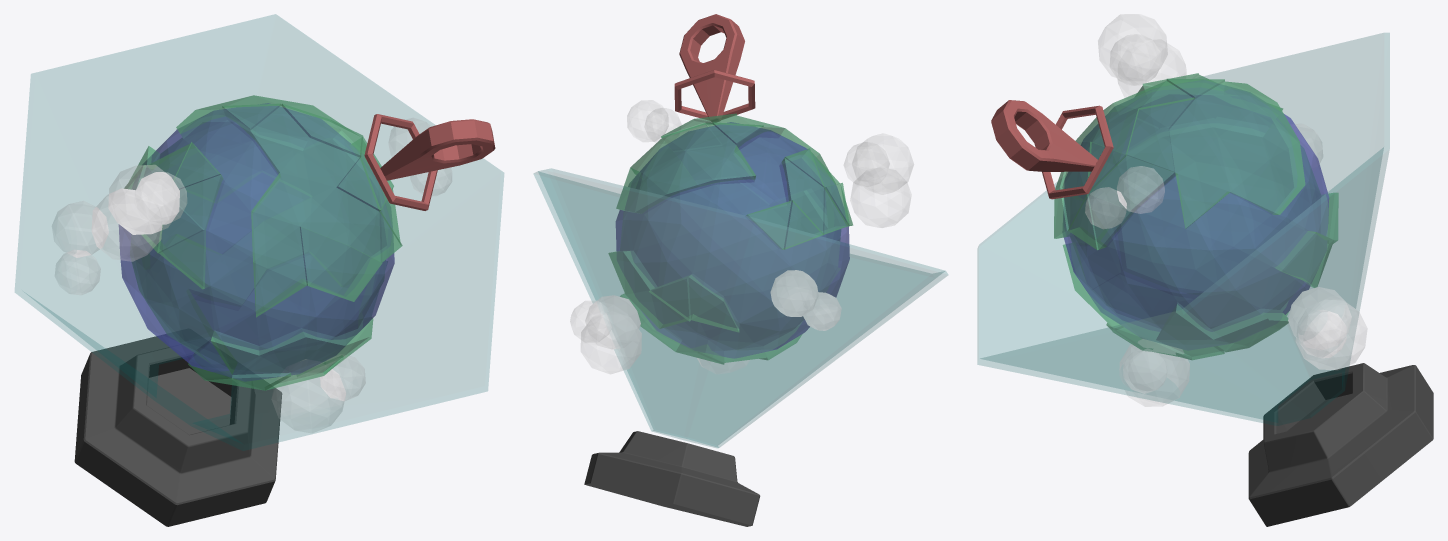
File: Destroyed_hologram.fbx
3 views of the same model, side by side, from view 1: azimuth 30°, elevation 25°; view 2: azimuth 150°, elevation 25°; view 3: azimuth 270°, elevation 25° (orthographic). The views are drawn at different scales.
Parts seen in each view (by area): view 1: polySurface857, polySurface722, polySurface681, polySurface855, polySurface709, polySurface854, polySurface728, polySurface864, polySurface865, polySurface727, polySurface853, polySurface726 (+3 smaller); view 2: polySurface857, polySurface722, polySurface681, polySurface855, polySurface709, polySurface728, polySurface854, polySurface860, polySurface865, polySurface858, polySurface853, polySurface727 (+4 smaller); view 3: polySurface857, polySurface722, polySurface681, polySurface855, polySurface709, polySurface854, polySurface727, polySurface858, polySurface853, polySurface860, polySurface859, polySurface723 (+3 smaller).
Boxes of the visible parts, <box> form: polySurface857: <box>15,14,503,450</box>; polySurface722: <box>124,95,402,390</box>; polySurface681: <box>118,103,394,381</box>; polySurface855: <box>74,334,282,526</box>; polySurface709: <box>380,119,495,180</box>; polySurface854: <box>108,165,179,234</box>; polySurface728: <box>92,189,161,261</box>; polySurface864: <box>272,369,345,432</box>; polySurface865: <box>52,201,108,257</box>; polySurface727: <box>135,172,186,223</box>; polySurface853: <box>364,114,437,210</box>; polySurface726: <box>55,250,100,294</box>; polySurface857: <box>534,168,947,447</box>; polySurface722: <box>608,113,853,364</box>; polySurface681: <box>615,122,849,358</box>; polySurface855: <box>584,431,760,526</box>; polySurface709: <box>679,14,744,122</box>; polySurface728: <box>850,168,911,227</box>; polySurface854: <box>852,133,913,194</box>; polySurface860: <box>581,314,641,373</box>; polySurface865: <box>771,270,817,316</box>; polySurface858: <box>627,100,668,141</box>; polySurface853: <box>674,69,755,120</box>; polySurface727: <box>844,142,889,186</box>; polySurface857: <box>977,33,1389,425</box>; polySurface722: <box>1054,73,1338,360</box>; polySurface681: <box>1063,80,1329,349</box>; polySurface855: <box>1248,363,1433,526</box>; polySurface709: <box>991,100,1097,171</box>; polySurface854: <box>1098,14,1167,78</box>; polySurface727: <box>1110,34,1160,85</box>; polySurface858: <box>1117,166,1164,213</box>; polySurface853: <box>1042,105,1113,199</box>; polySurface860: <box>1296,303,1367,369</box>; polySurface859: <box>1085,187,1126,228</box>; polySurface723: <box>1298,310,1346,357</box>.
Size of the model in its own units: 6.98 by 6.33 by 5.79.
